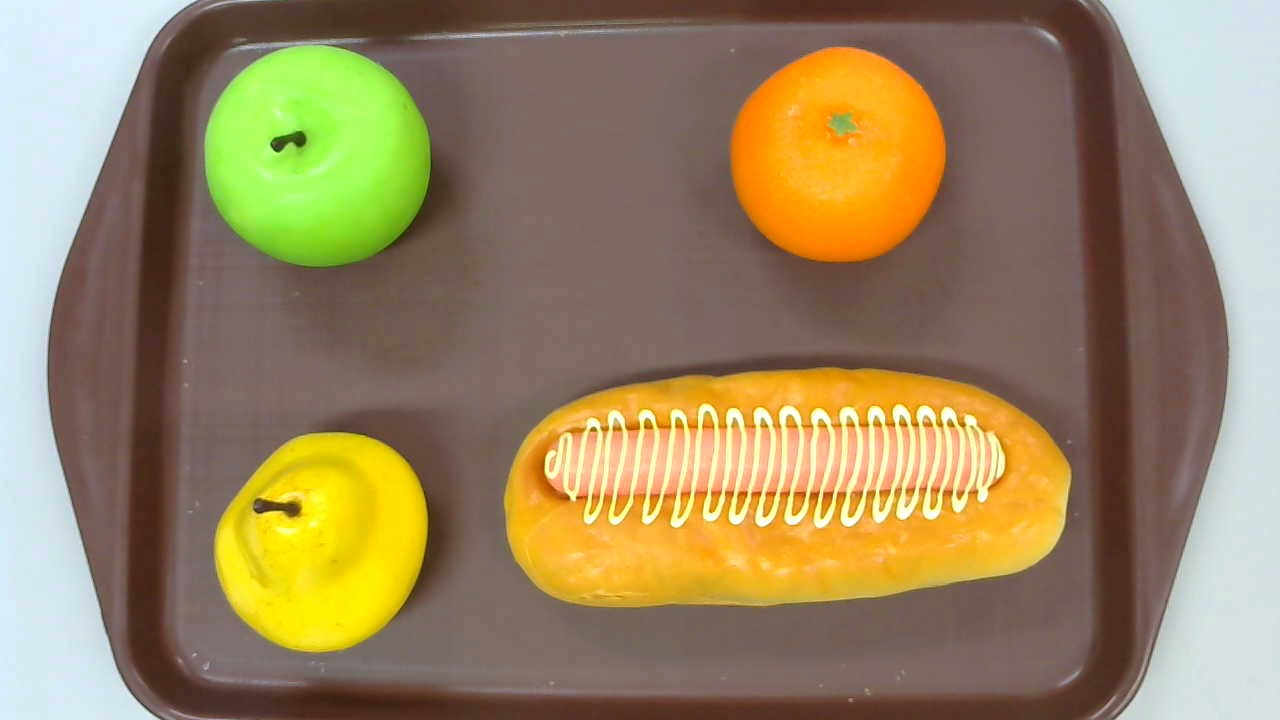green apple: (204, 45, 432, 267)
hot dog: (502, 366, 1073, 607)
orange: (728, 47, 947, 264)
yellow pear: (214, 430, 426, 651)
